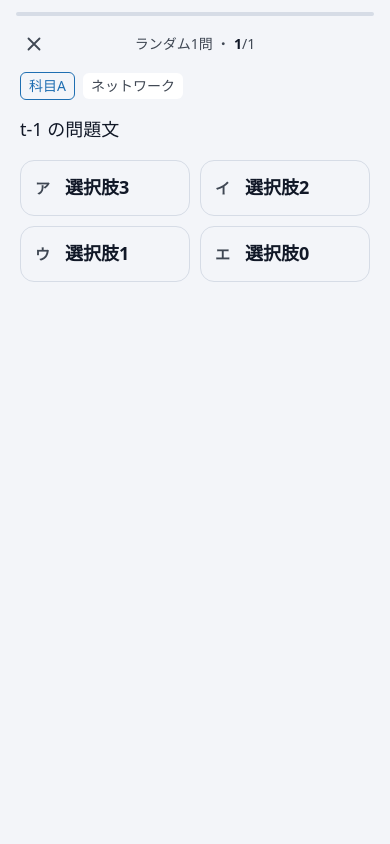
演習（S03） › キーで不正解を選ぶと正解の記号を示し、最後は結果画面へ
Press 1
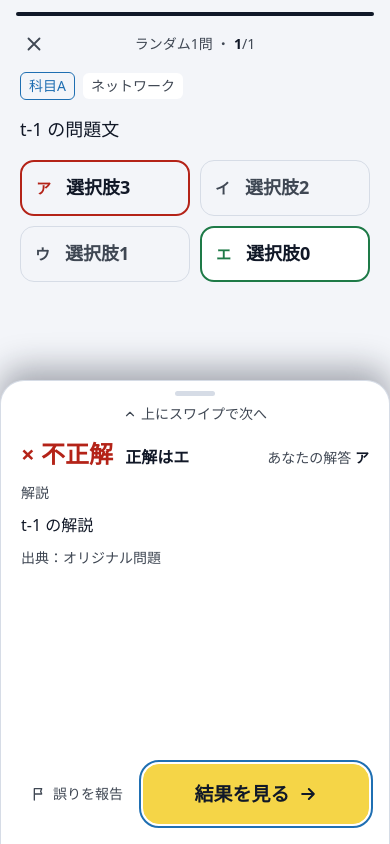
Result: the text "× 不正解 正解はエ" is shown at [21, 438, 189, 469]
Result: the text "正解はエ" is shown at [125, 446, 189, 468]
Click the button "結果を見る" at (256, 794), box [143, 764, 369, 824]
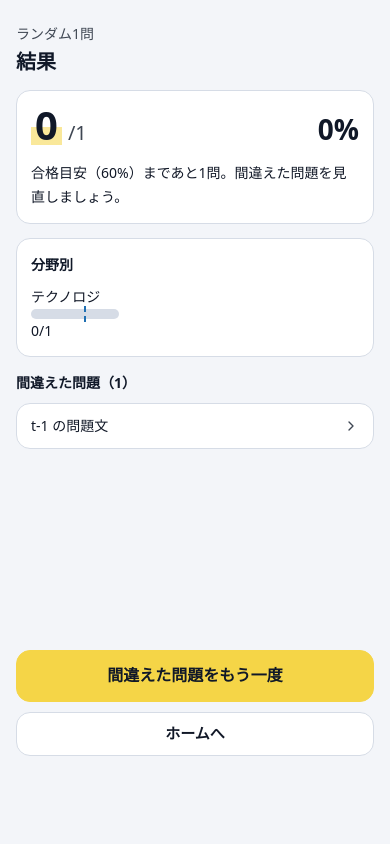
Result: the heading "結果" is shown at [16, 48, 56, 75]
Result: the heading "間違えた問題（1）" is shown at [16, 373, 136, 392]
Result: the button "間違えた問題をもう一度" is shown at [16, 650, 374, 702]
